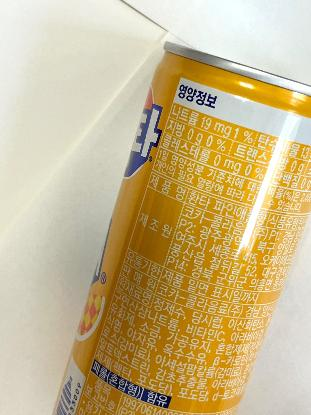Can: (48, 39, 311, 415)
